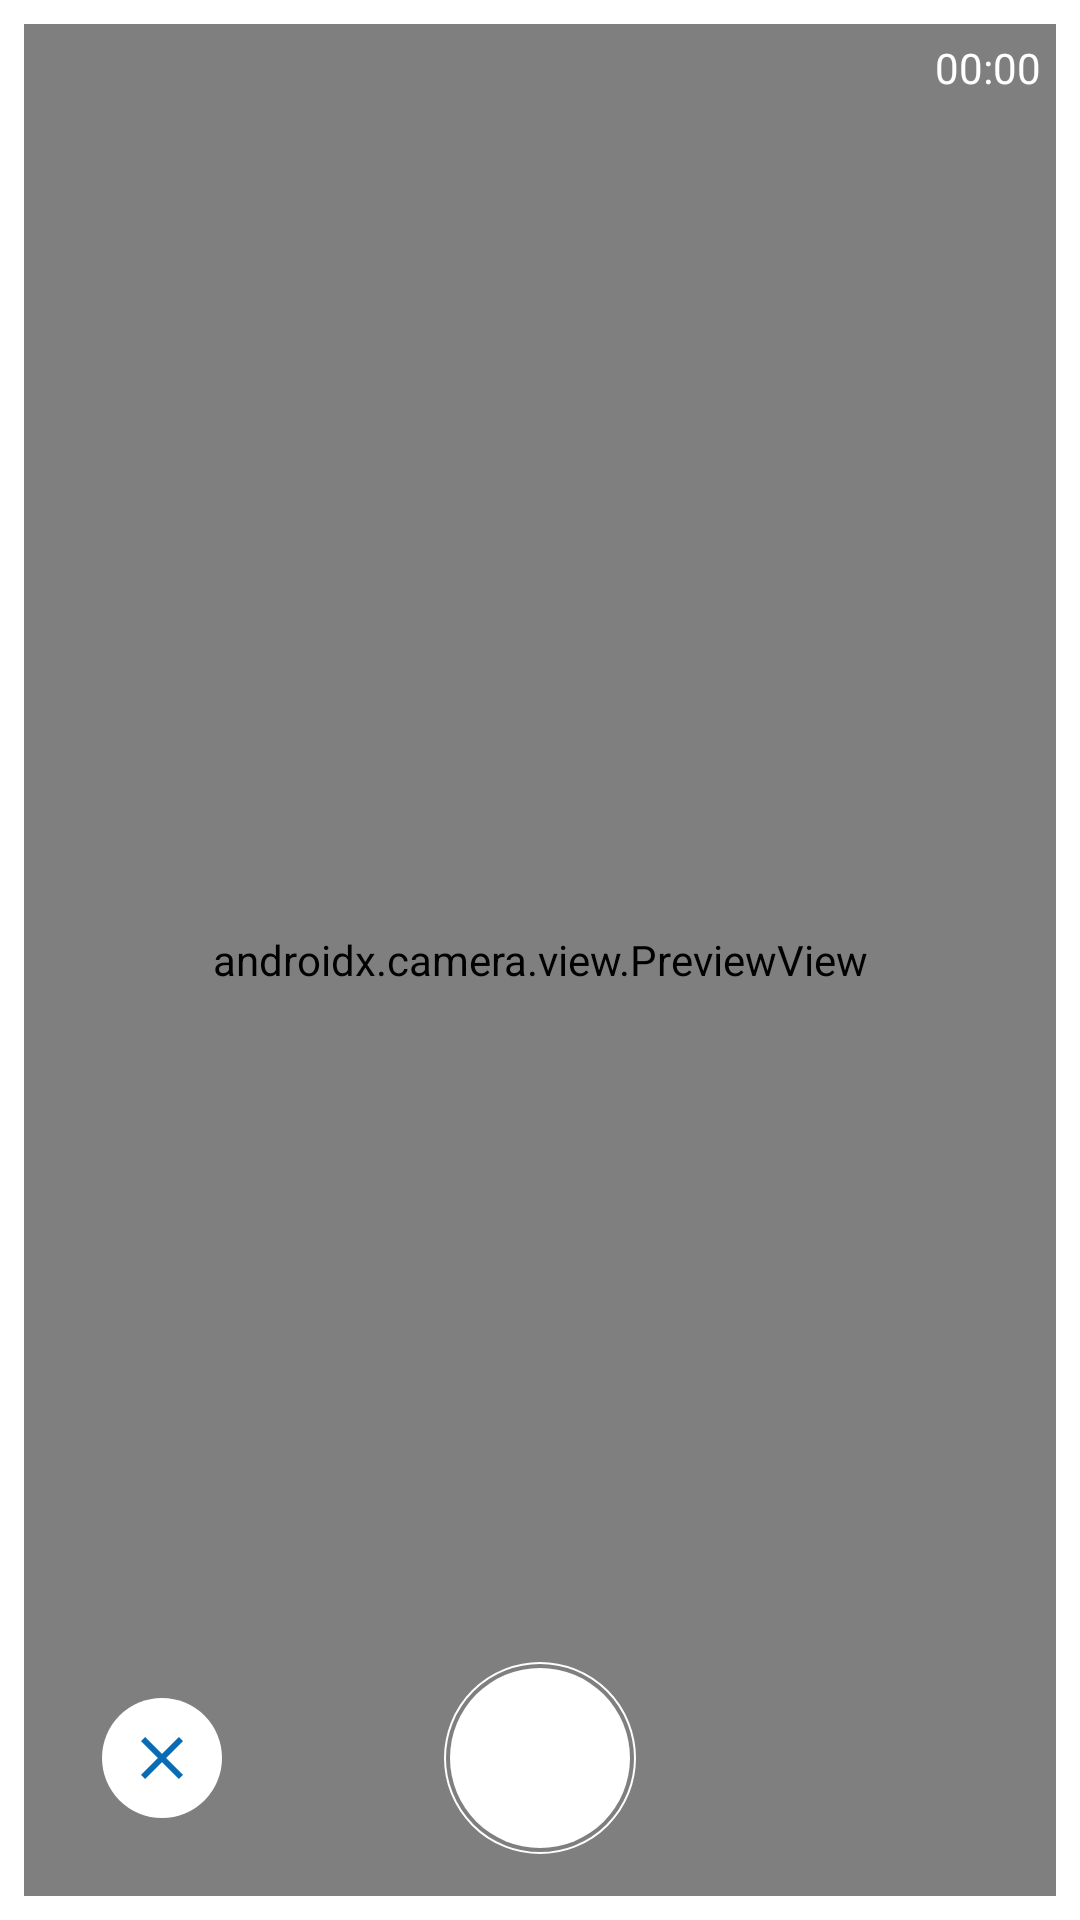

Screen size 1080px x 1920px. Icon name, then its box in pixels as (x1, y1, x2, y2):
delete evidence: (102, 1698, 222, 1818)
